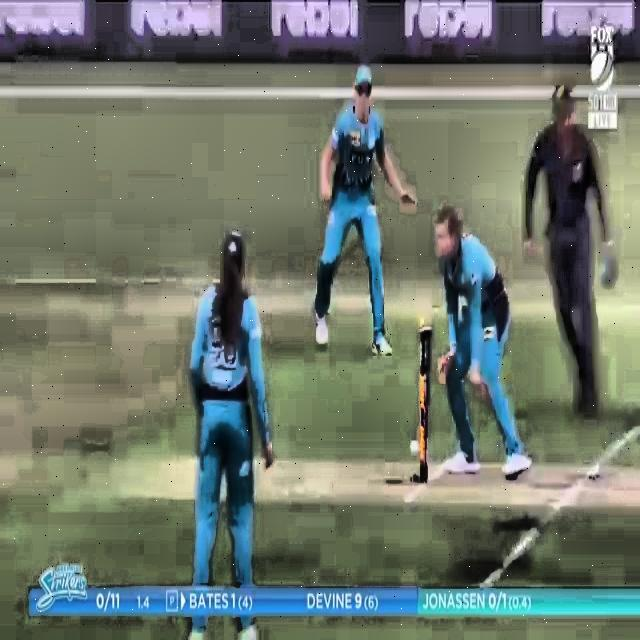Dis_Wicket: (413, 314, 444, 490)
